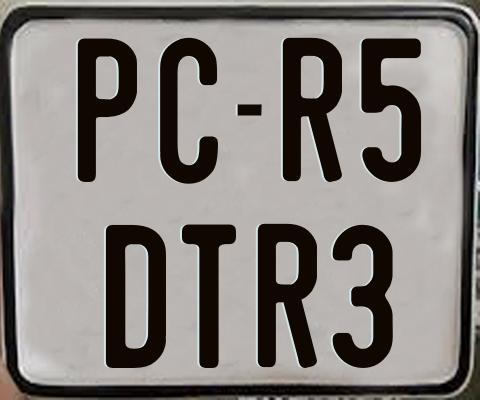3: (330, 224, 396, 367)
5: (359, 35, 422, 184)
C: (157, 37, 215, 188)
D: (105, 222, 168, 366)
P: (75, 38, 134, 185)
R: (281, 36, 341, 181), (258, 224, 318, 369)
T: (182, 222, 239, 370)
